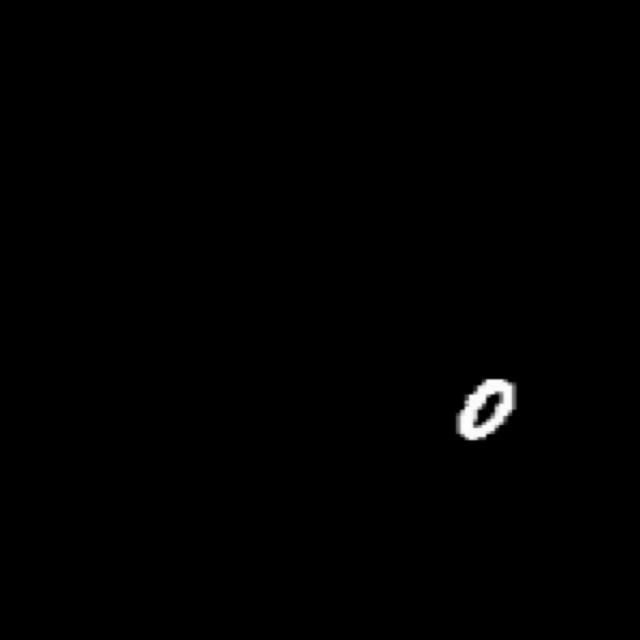zero -0-: (438, 365, 534, 457)
